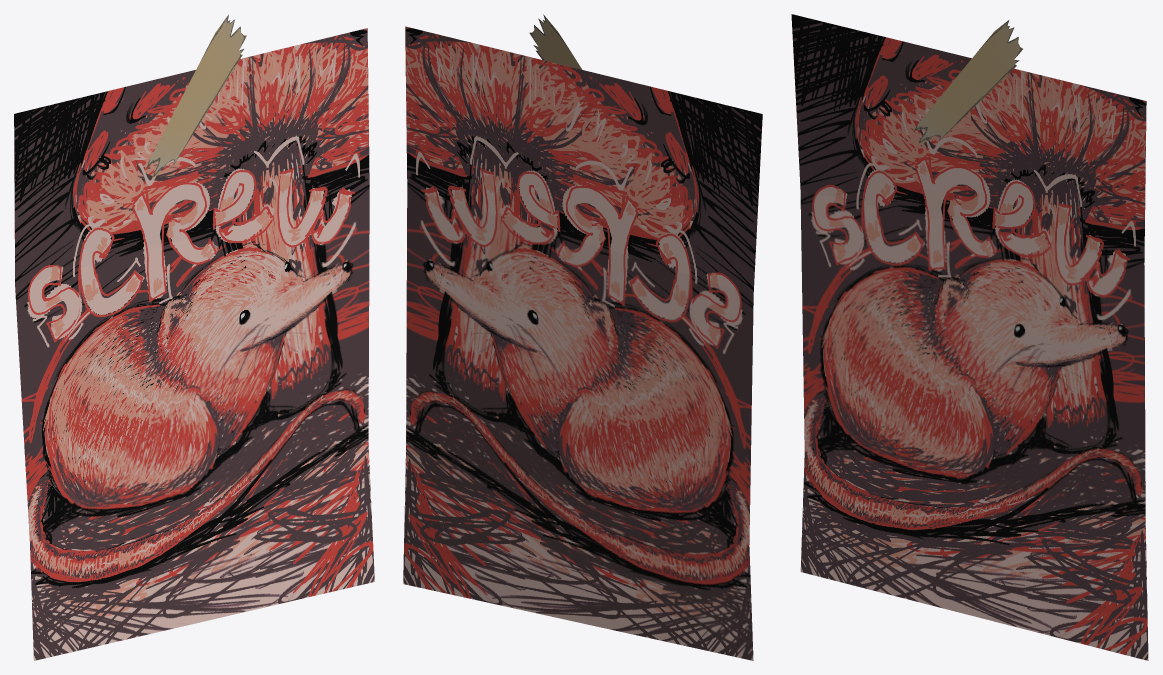
Rendered from PosterScrew.fbx.
3 views of the same model, side by side, from view 1: azimuth 30°, elevation 25°; view 2: azimuth 150°, elevation 25°; view 3: azimuth 330°, elevation 25° (orthographic).
Parts seen in each view (by area): view 1: Poster, Tape.001; view 2: Poster, Tape.001; view 3: Poster, Tape.001.
Part boxes in pixels (x1,y1,x2,y2): Poster: (14,28,374,660); Tape.001: (145,14,246,178); Poster: (403,26,762,660); Tape.001: (529,14,581,69); Poster: (791,14,1148,660); Tape.001: (912,20,1022,144).
Bounding box in the file's own units: 111 × 178 × 5.62.
Materials: 2 (2 with a texture image).
